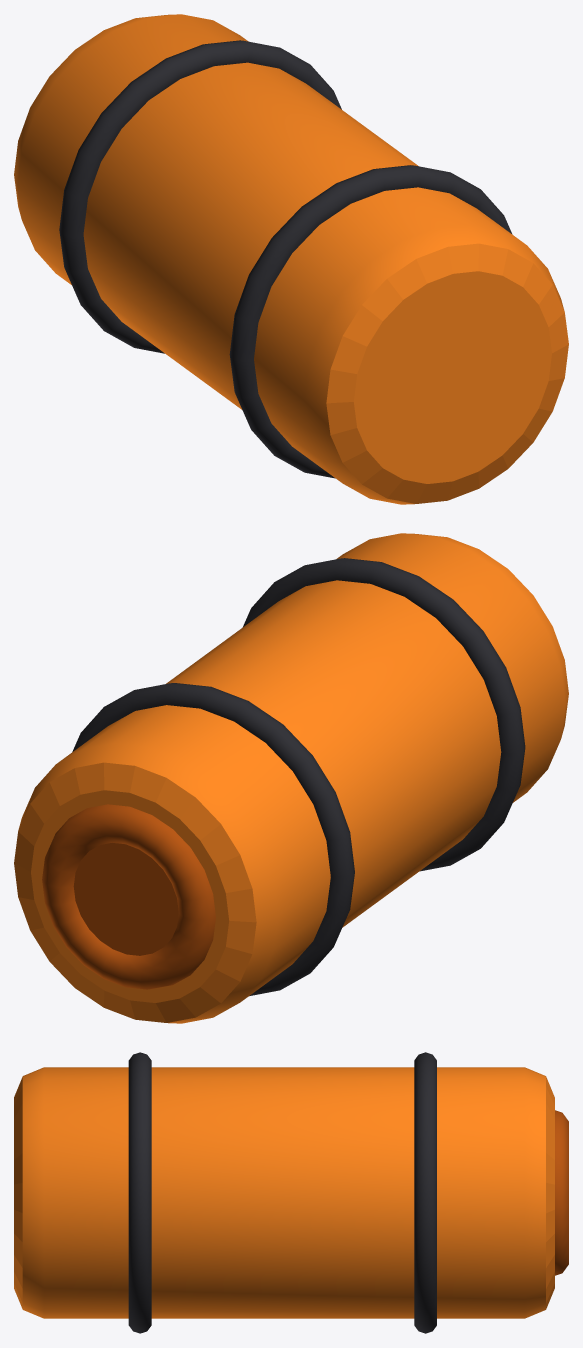
The model's file is sleeping_bag.fbx.
3 views of the same model, one above another, from view 1: azimuth 30°, elevation 25°; view 2: azimuth 150°, elevation 25°; view 3: azimuth 270°, elevation 25° (orthographic). The views are drawn at different scales.
Parts seen in each view (by area): view 1: Sleeping Bag; view 2: Sleeping Bag; view 3: Sleeping Bag.
Part boxes in pixels (x1,y1,x2,y2): Sleeping Bag: (14,14,568,504); Sleeping Bag: (14,533,568,1023); Sleeping Bag: (14,1052,568,1333).
Size of the model in its own units: 0.94 by 0.94 by 1.85.
